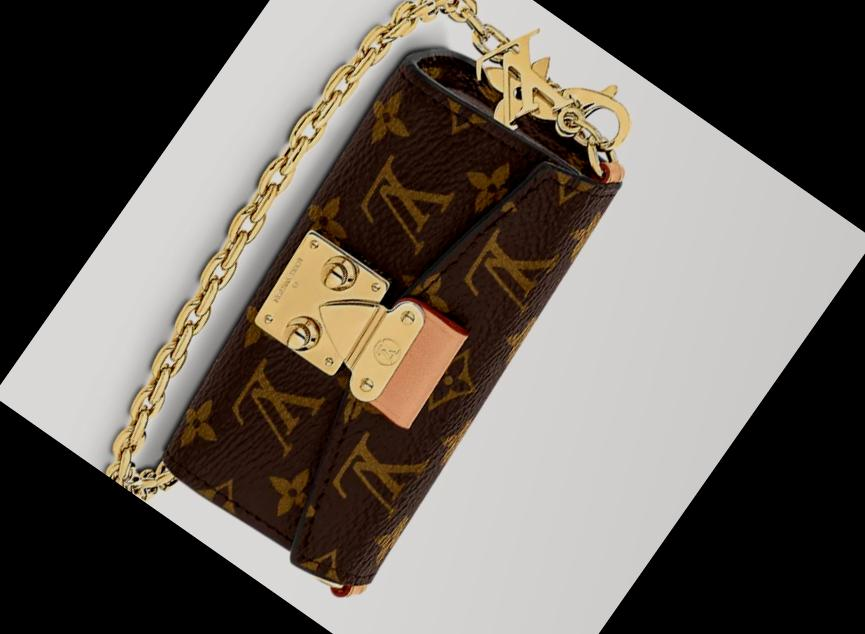LOUIS-VUITTON: (122, 28, 642, 606)
